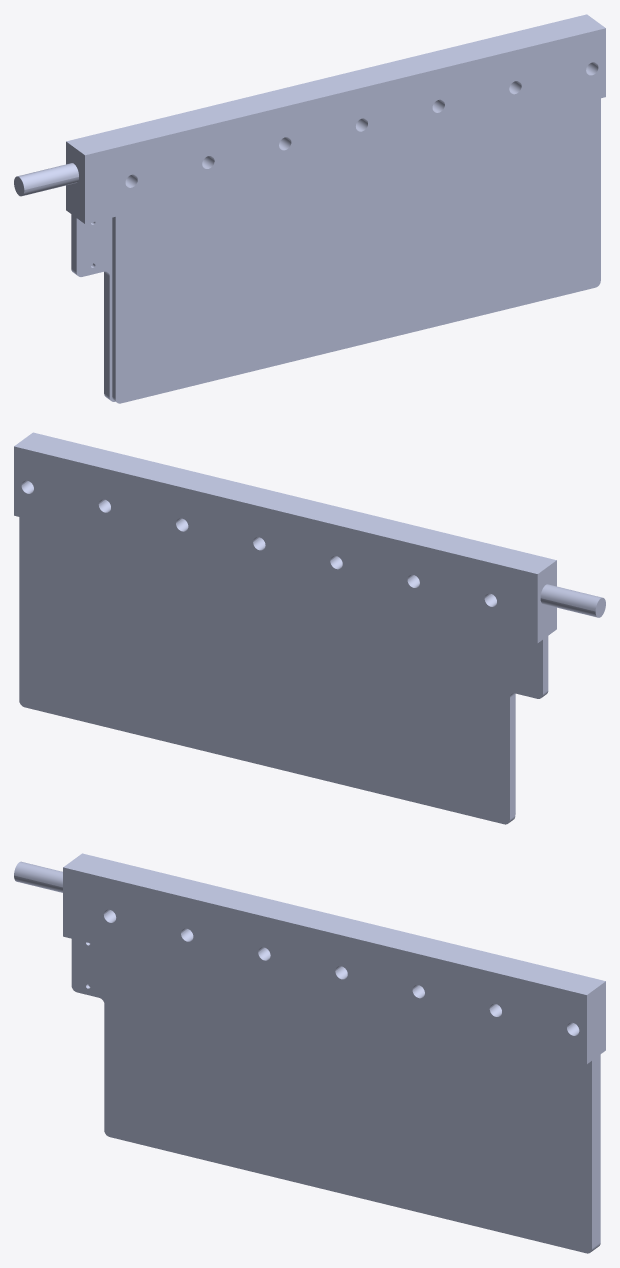
File: MUB-6.glb
The picture shows the model from 3 angles, top to bottom: view 1: azimuth 30°, elevation 25°; view 2: azimuth 150°, elevation 25°; view 3: azimuth 330°, elevation 25°; orthographic projection.
Parts seen in each view (by area): view 1: MUB-6_node_1; view 2: MUB-6_node_1; view 3: MUB-6_node_1.
Boxes of the visible parts, x1,y1,x2,y2 form: MUB-6_node_1: (14, 14, 605, 403); MUB-6_node_1: (14, 432, 605, 824); MUB-6_node_1: (14, 853, 605, 1253).
Bounding box in the file's own units: 210 × 91.3 × 12.
